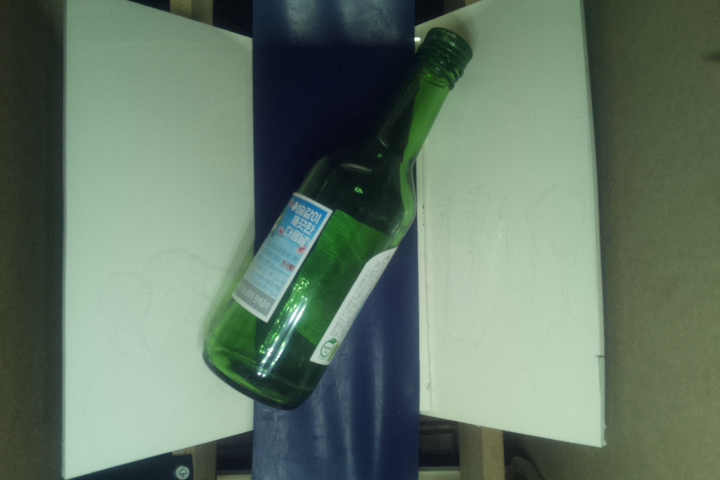soju: (203, 22, 473, 415)
